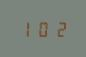one: (18, 20, 33, 37)
two: (51, 20, 66, 37)
zero: (35, 20, 50, 37)
